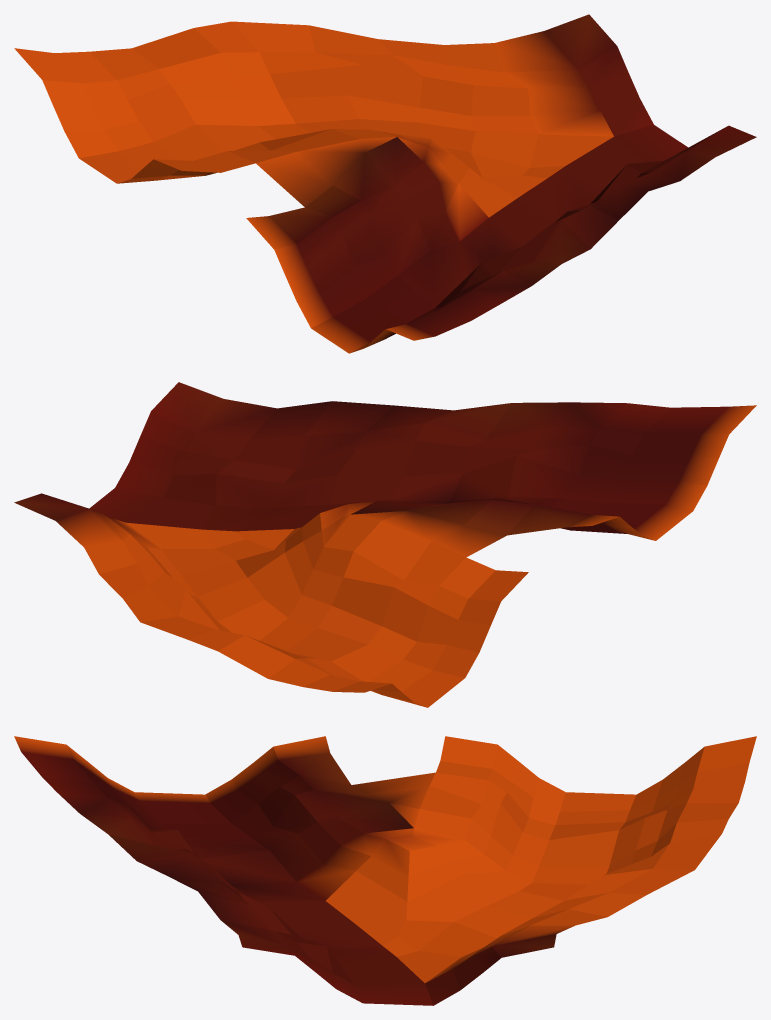
The model's file is terrainSplitFlat.fbx.
3 views of the same model, one above another, from view 1: azimuth 30°, elevation 25°; view 2: azimuth 150°, elevation 25°; view 3: azimuth 270°, elevation 25° (orthographic). The views are drawn at different scales.
Visible parts, largest first — view 1: Plane; view 2: Plane; view 3: Plane.
Part boxes in pixels (x1,y1,x2,y2): Plane: [14, 14, 756, 353]; Plane: [14, 382, 756, 707]; Plane: [14, 736, 756, 1005].
Size of the model in its own units: 926 by 135 by 1377.
